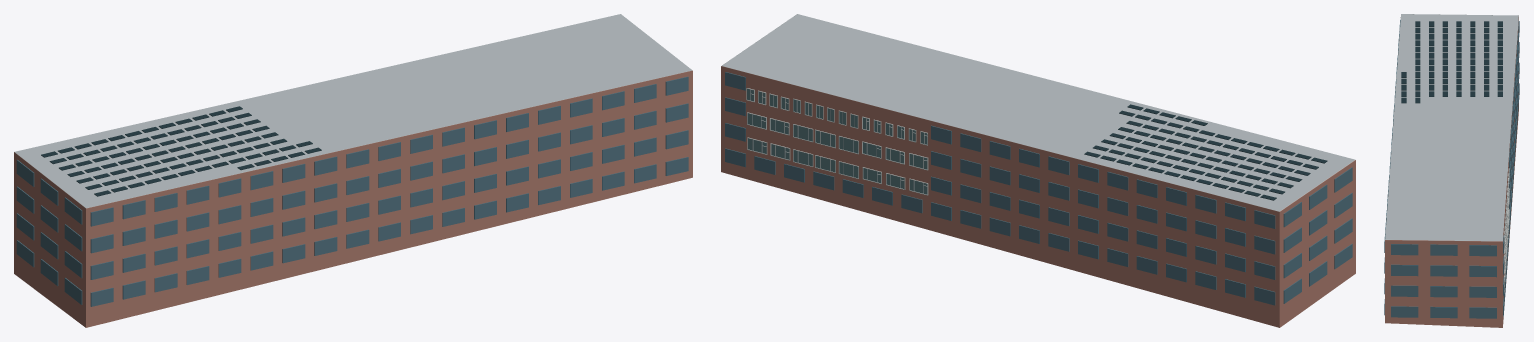
The model's file is intact.glb.
The picture shows the model from 3 angles, left to right: view 1: azimuth 30°, elevation 25°; view 2: azimuth 150°, elevation 25°; view 3: azimuth 270°, elevation 25°; orthographic projection. The views are drawn at different scales.
Visible parts, largest first — view 1: SM_468931887_Intact_00, SM_468931887_Intact_02, SM_468931887_Intact_01; view 2: SM_468931887_Intact_00, SM_468931887_Intact_02, SM_468931887_Intact_01, SM_468931887_Intact_04, SM_468931887_Intact_06, SM_468931887_Intact_08, SM_468931887_Intact_05, SM_468931887_Intact_03, SM_468931887_Intact_07; view 3: SM_468931887_Intact_00, SM_468931887_Intact_02, SM_468931887_Intact_01, SM_468931887_Intact_05, SM_468931887_Intact_03, SM_468931887_Intact_07.
Part boxes in pixels (x1,y1,x2,y2): SM_468931887_Intact_00: [14, 14, 692, 327]; SM_468931887_Intact_02: [16, 76, 688, 306]; SM_468931887_Intact_01: [41, 106, 321, 196]; SM_468931887_Intact_00: [721, 14, 1355, 327]; SM_468931887_Intact_02: [725, 72, 1352, 305]; SM_468931887_Intact_01: [1084, 104, 1327, 200]; SM_468931887_Intact_04: [793, 99, 858, 178]; SM_468931887_Intact_06: [863, 117, 927, 194]; SM_468931887_Intact_08: [747, 88, 789, 159]; SM_468931887_Intact_05: [862, 116, 928, 195]; SM_468931887_Intact_03: [793, 98, 858, 178]; SM_468931887_Intact_07: [746, 88, 790, 160]; SM_468931887_Intact_00: [1385, 14, 1518, 327]; SM_468931887_Intact_02: [1384, 20, 1519, 318]; SM_468931887_Intact_01: [1401, 21, 1502, 103]; SM_468931887_Intact_05: [1507, 168, 1509, 243]; SM_468931887_Intact_03: [1505, 197, 1507, 272]; SM_468931887_Intact_07: [1504, 226, 1505, 292].
Bounding box in the file's own units: 2.2 × 0.4282 × 0.5509.
